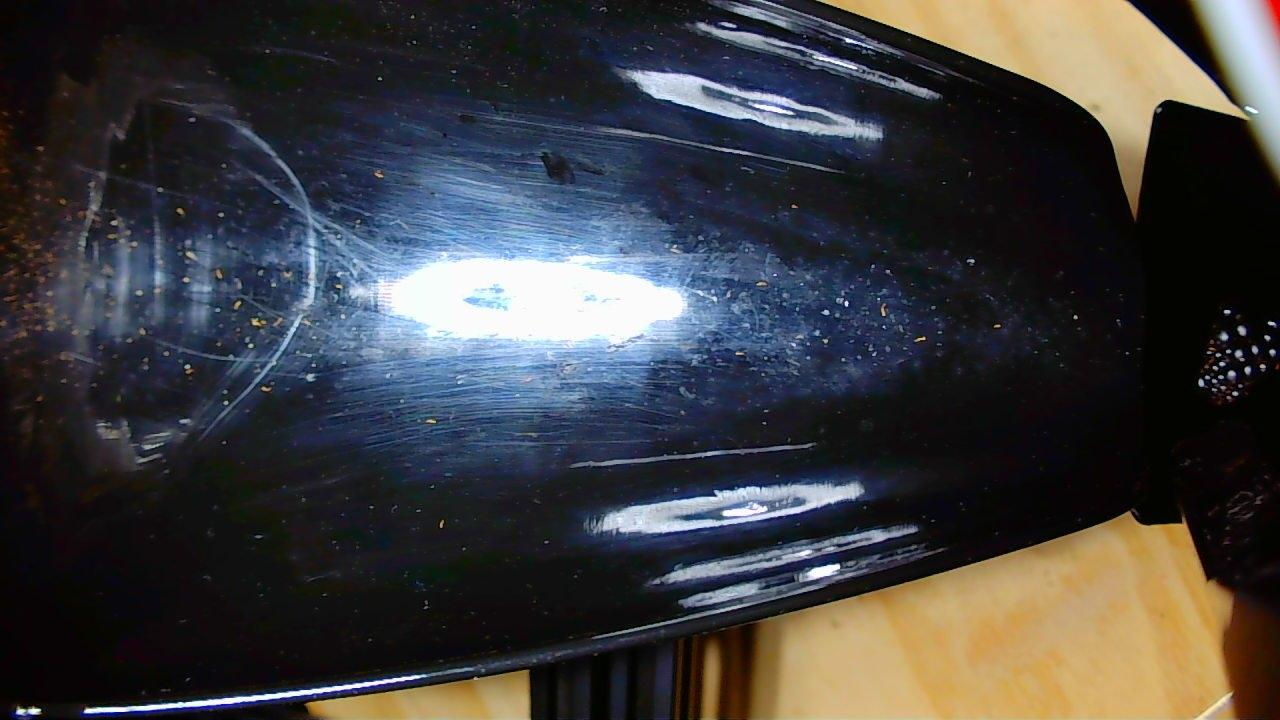berry: (1202, 311, 1278, 407)
